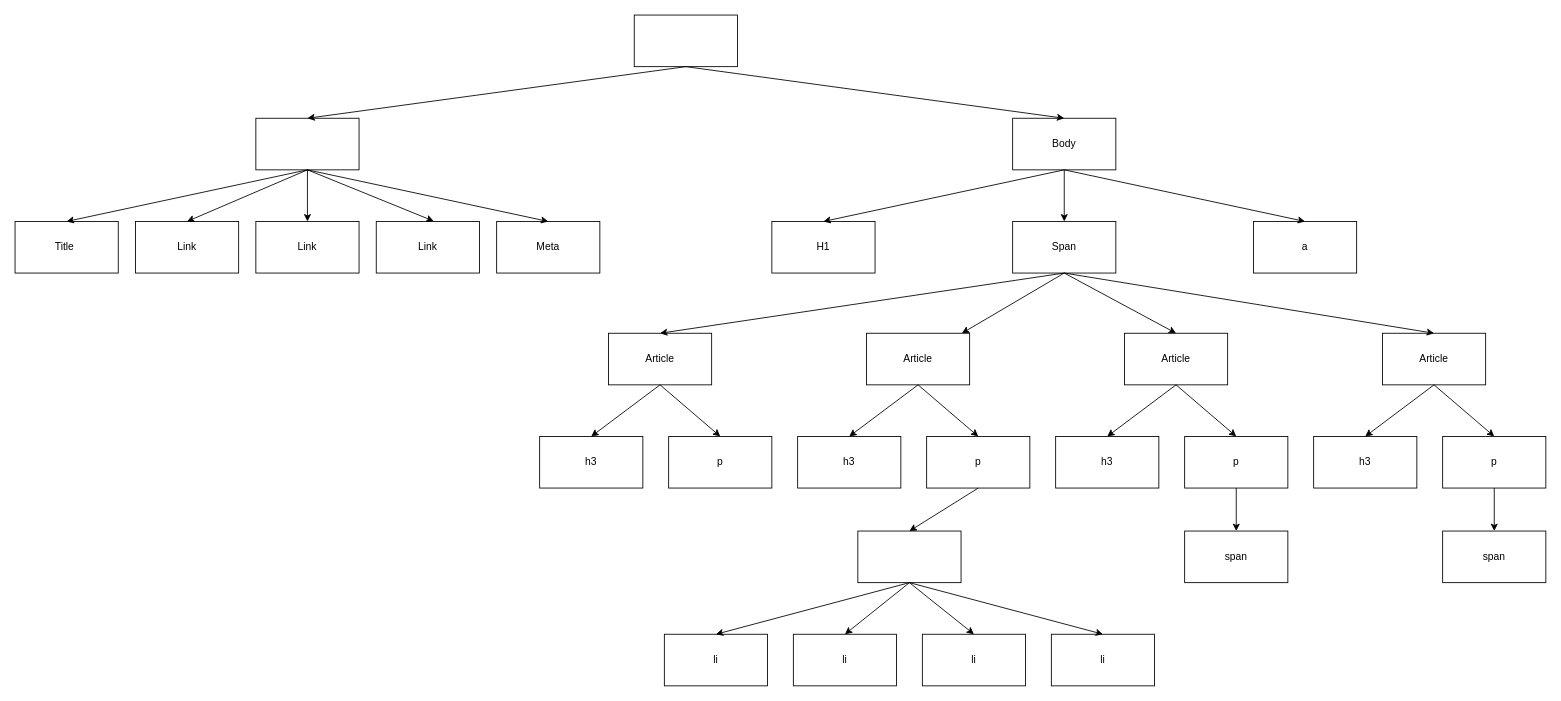
Some shapes in this 1561 by 701 pixel diagram are drawn without their labels. Each missing label, with the box of its shape:
Head: (255, 117, 359, 170)
HTML: (633, 14, 737, 67)
ul: (857, 530, 961, 583)
